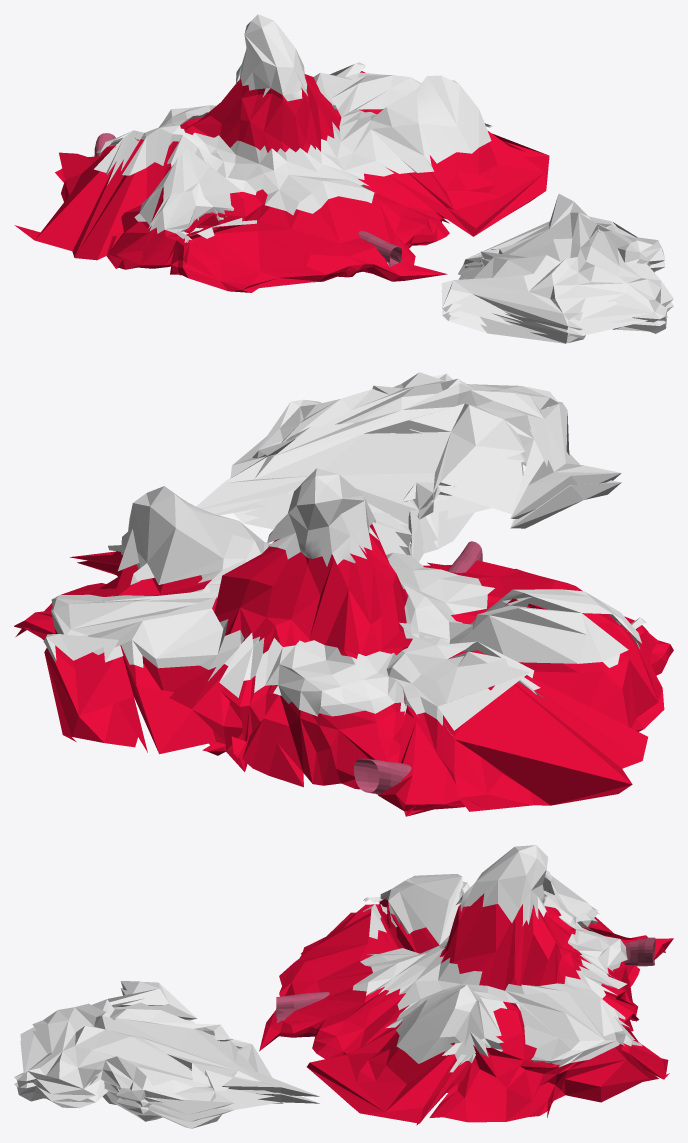
The model's file is island.fbx.
3 views of the same model, one above another, from view 1: azimuth 30°, elevation 25°; view 2: azimuth 150°, elevation 25°; view 3: azimuth 270°, elevation 25° (orthographic). The views are drawn at different scales.
Parts seen in each view (by area): view 1: Icosphere, Icosphere.009, Icosphere.010, Icosphere.001, Cube.001; view 2: Icosphere, Icosphere.009, Icosphere.010, Icosphere.001, Cube.001; view 3: Icosphere, Icosphere.009, Icosphere.010, Icosphere.001, Cube.001.
Boxes of the visible parts, x1,y1,x2,y2 form: Icosphere: (14,71,549,292); Icosphere.009: (94,14,491,242); Icosphere.010: (441,194,673,336); Icosphere.001: (441,230,673,343); Cube.001: (94,133,403,266); Icosphere: (14,524,673,816); Icosphere.009: (43,468,646,730); Icosphere.010: (196,372,621,558); Icosphere.001: (203,407,621,561); Cube.001: (353,541,482,794); Icosphere: (259,889,673,1125); Icosphere.009: (352,845,642,1072); Icosphere.010: (14,981,319,1121); Icosphere.001: (14,988,319,1128); Cube.001: (275,937,655,1022).
Size of the model in its own units: 1823 by 709 by 2181.
